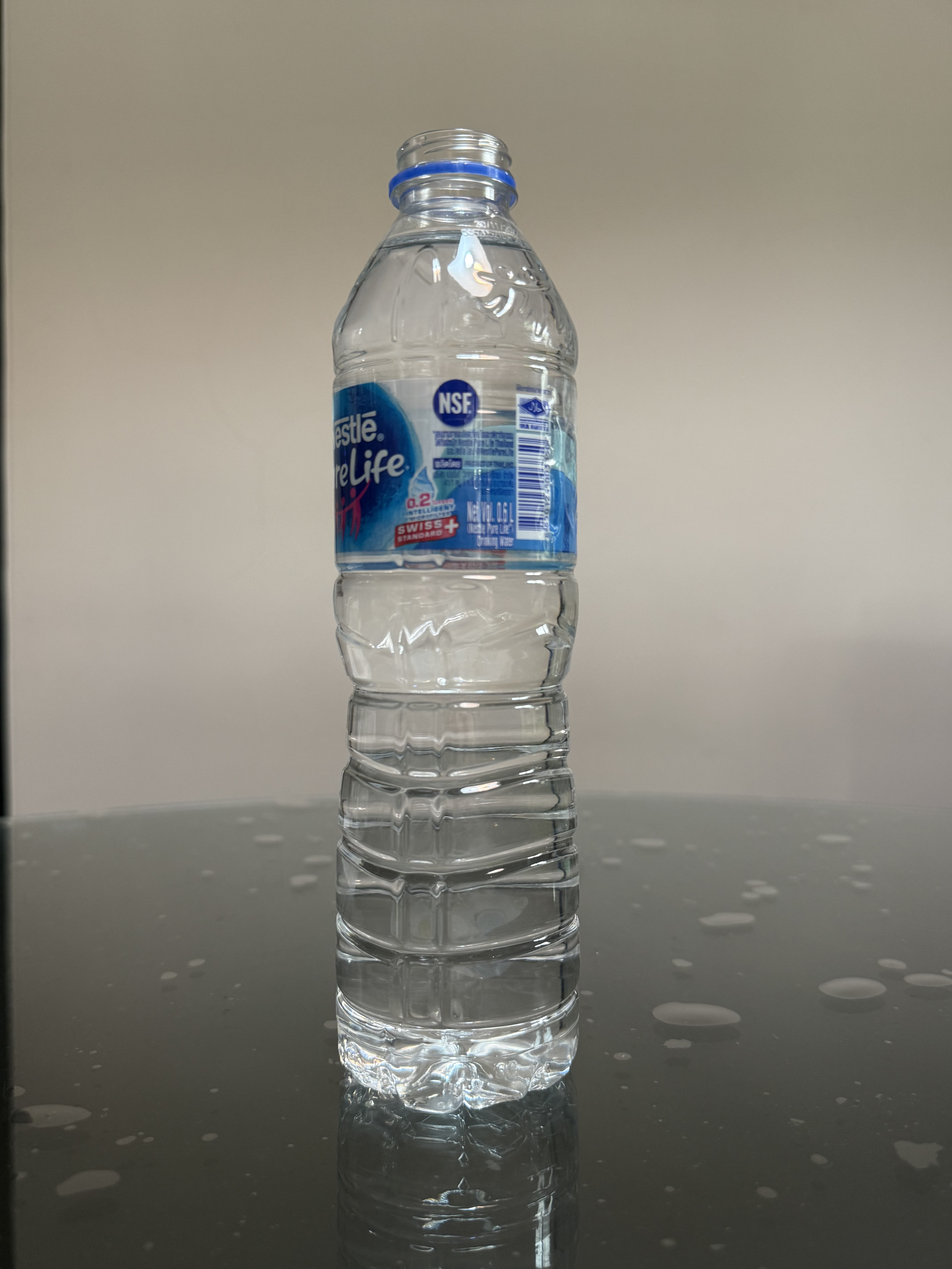no_cap: (384, 122, 522, 214)
